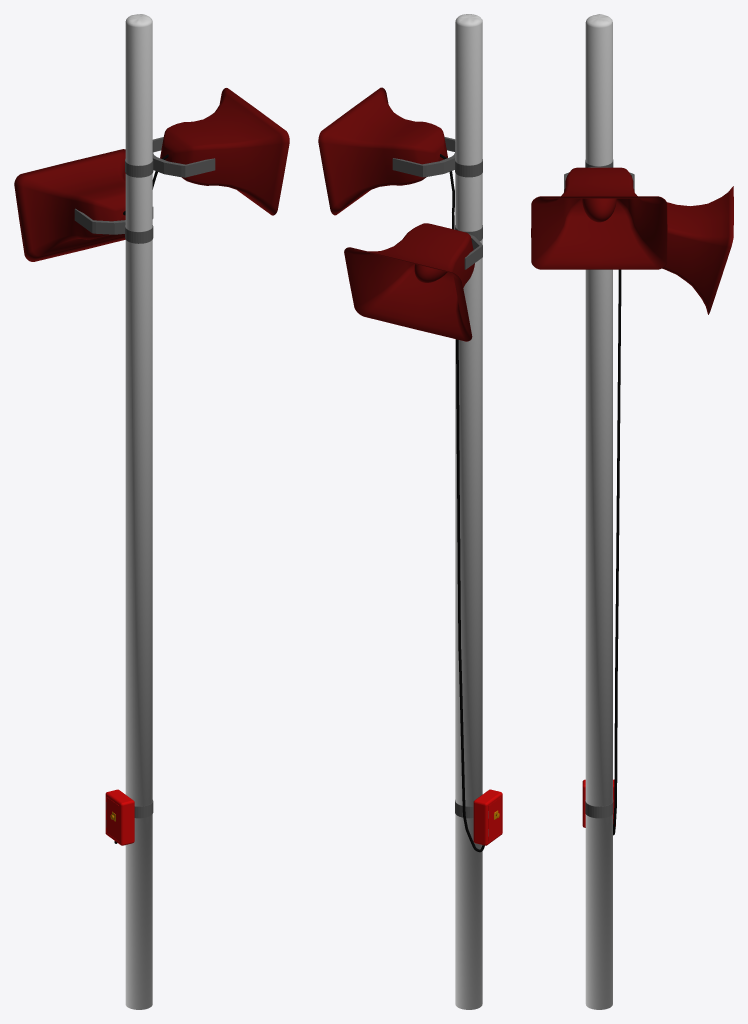
File: siren.obj
The picture shows the model from 3 angles, left to right: view 1: azimuth 30°, elevation 25°; view 2: azimuth 150°, elevation 25°; view 3: azimuth 270°, elevation 25°; orthographic projection.
Visible parts, largest first — view 1: Wood, Siren.002, Siren.001, Electric.Box.001, Siren, Siren.003; view 2: Wood, Siren.002, Siren.001, Cable, Electric.Box.001, Siren, Siren.003; view 3: Wood, Siren.001, Siren.002, Cable.
Part boxes in pixels (x1,y1,x2,y2): Wood: [125, 14, 152, 1009]; Siren.002: [14, 149, 125, 261]; Siren.001: [160, 88, 289, 215]; Electric.Box.001: [105, 789, 134, 845]; Siren: [125, 137, 215, 177]; Siren.003: [74, 207, 153, 243]; Wood: [455, 14, 482, 1009]; Siren.002: [344, 223, 474, 341]; Siren.001: [318, 87, 447, 215]; Cable: [440, 154, 484, 852]; Electric.Box.001: [473, 789, 502, 845]; Siren: [392, 136, 482, 177]; Siren.003: [455, 225, 482, 269]; Wood: [585, 14, 612, 1009]; Siren.001: [531, 167, 667, 269]; Siren.002: [662, 186, 733, 314]; Cable: [613, 269, 621, 835].
Bounding box in the file's own units: 1.51 × 8.04 × 1.5.
